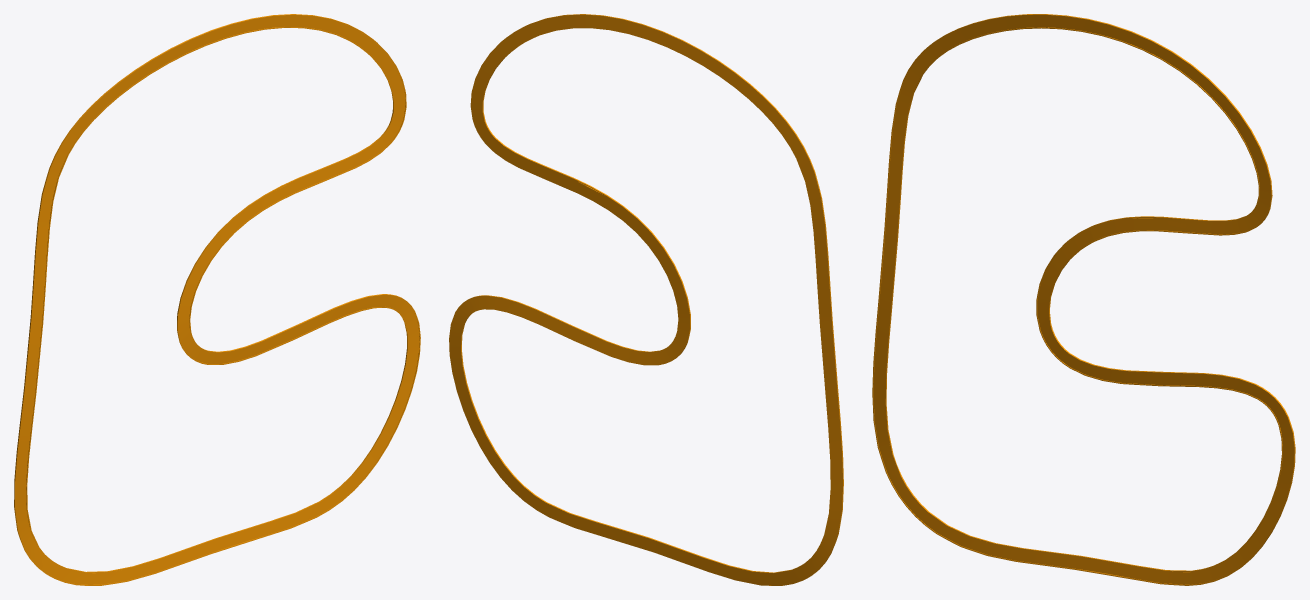
The model's file is pista v2.obj.
3 views of the same model, side by side, from view 1: azimuth 30°, elevation 25°; view 2: azimuth 150°, elevation 25°; view 3: azimuth 330°, elevation 25° (orthographic). The views are drawn at different scales.
Visible parts, largest first — view 1: Cuerpo1, Cuerpo2, Cuerpo3; view 2: Cuerpo1, Cuerpo2, Cuerpo3; view 3: Cuerpo1, Cuerpo2, Cuerpo3.
Part boxes in pixels (left/top/right/bottom): Cuerpo1: left=15, top=15, right=419, bottom=584; Cuerpo2: left=14, top=14, right=420, bottom=585; Cuerpo3: left=26, top=27, right=408, bottom=573; Cuerpo1: left=450, top=15, right=842, bottom=584; Cuerpo2: left=449, top=14, right=843, bottom=585; Cuerpo3: left=460, top=27, right=831, bottom=573; Cuerpo1: left=873, top=15, right=1293, bottom=584; Cuerpo2: left=872, top=14, right=1295, bottom=585; Cuerpo3: left=885, top=27, right=1282, bottom=572.
Bounding box in the file's own units: 42.36 × 53.93 × 1.72.
